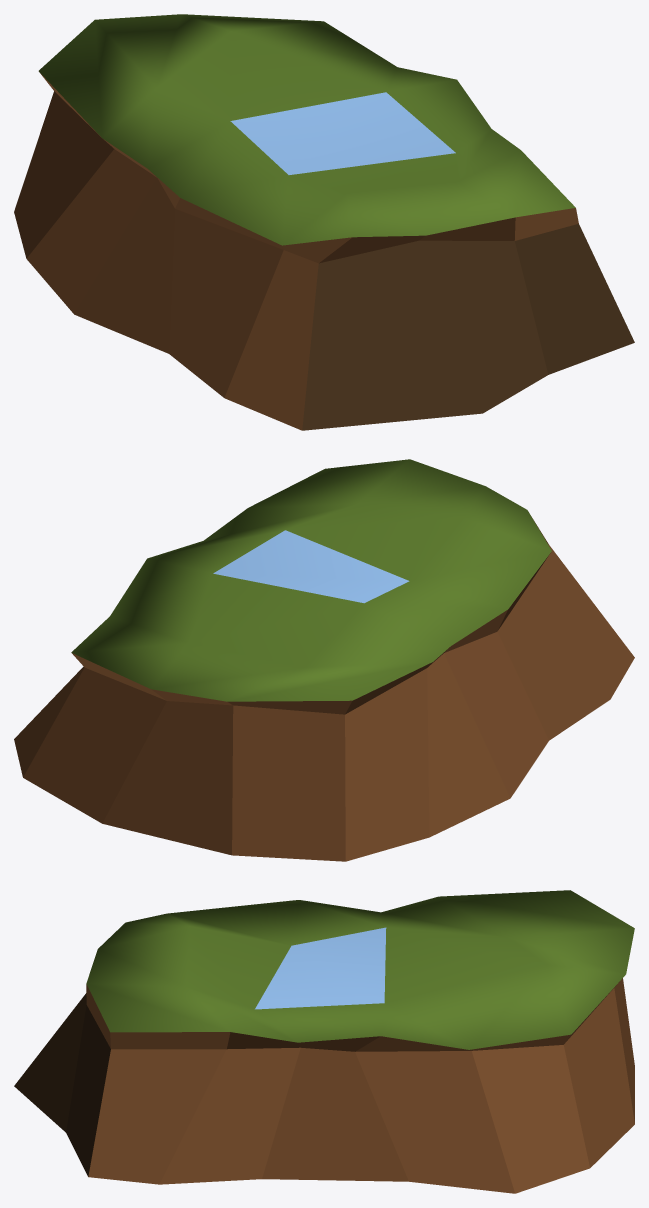
File: HillSmootTry.fbx
The picture shows the model from 3 angles, top to bottom: view 1: azimuth 30°, elevation 25°; view 2: azimuth 150°, elevation 25°; view 3: azimuth 270°, elevation 25°; orthographic projection. The views are drawn at different scales.
Visible parts, largest first — view 1: Cube; view 2: Cube; view 3: Cube.
Boxes of the visible parts, box(x1,y1,x2,y2) form: Cube: box(14, 14, 634, 430); Cube: box(14, 459, 634, 861); Cube: box(14, 890, 634, 1193).
Bounding box in the file's own units: 2305 × 829 × 3135.
